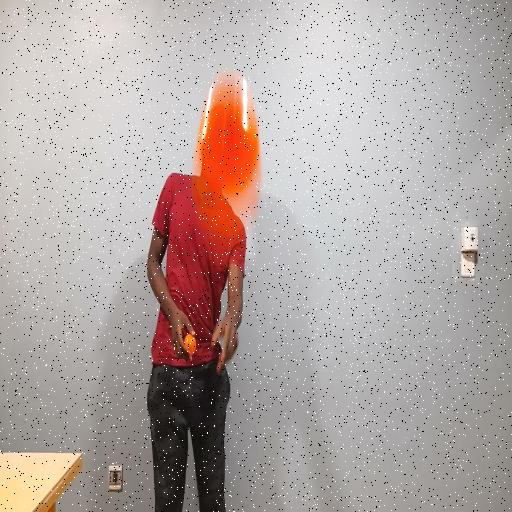plastic-ball: (183, 64, 274, 249)
